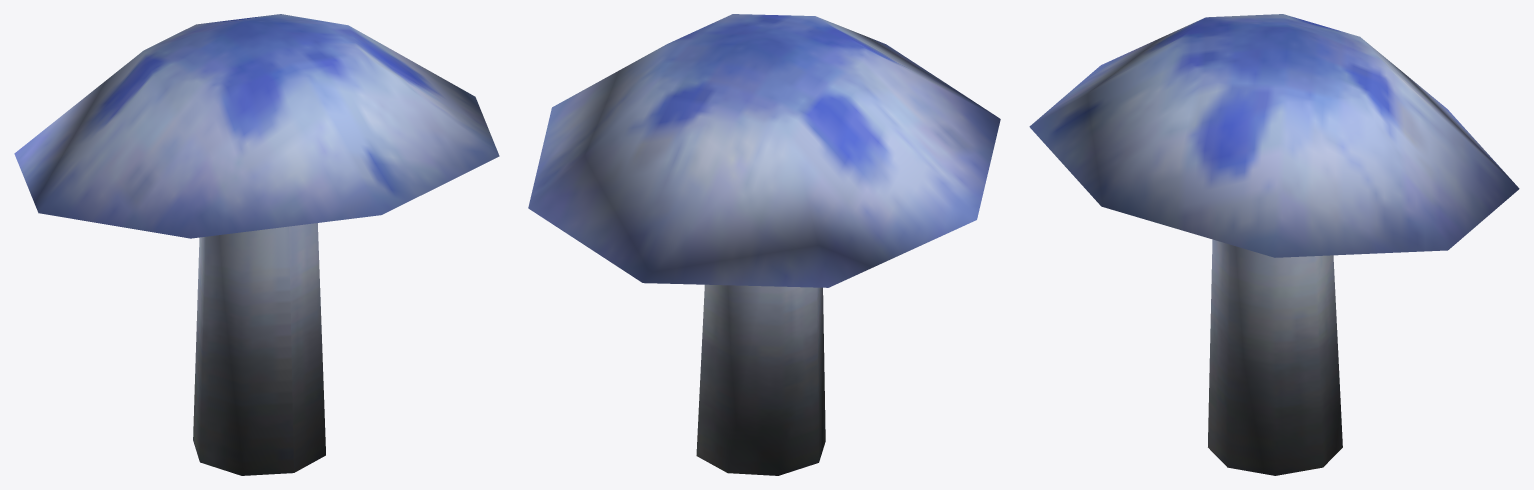
File: INST_TROLLHOLE_SHROOMA1.fbx
The picture shows the model from 3 angles, left to right: view 1: azimuth 30°, elevation 25°; view 2: azimuth 150°, elevation 25°; view 3: azimuth 270°, elevation 25°; orthographic projection. The views are drawn at different scales.
Visible parts, largest first — view 1: INST_TROLLHOLE_SHROOMA1; view 2: INST_TROLLHOLE_SHROOMA1; view 3: INST_TROLLHOLE_SHROOMA1.
Boxes of the visible parts, x1,y1,x2,y2 form: INST_TROLLHOLE_SHROOMA1: [14, 14, 499, 475]; INST_TROLLHOLE_SHROOMA1: [528, 14, 1000, 475]; INST_TROLLHOLE_SHROOMA1: [1029, 14, 1519, 475].
Bounding box in the file's own units: 3555 × 3476 × 3522.
Materials: 1 (1 with a texture image).
